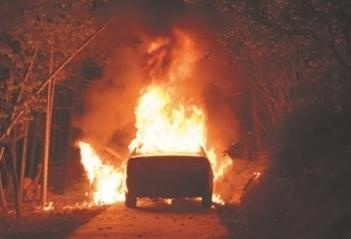fire: (126, 83, 218, 159), (77, 139, 128, 206)
